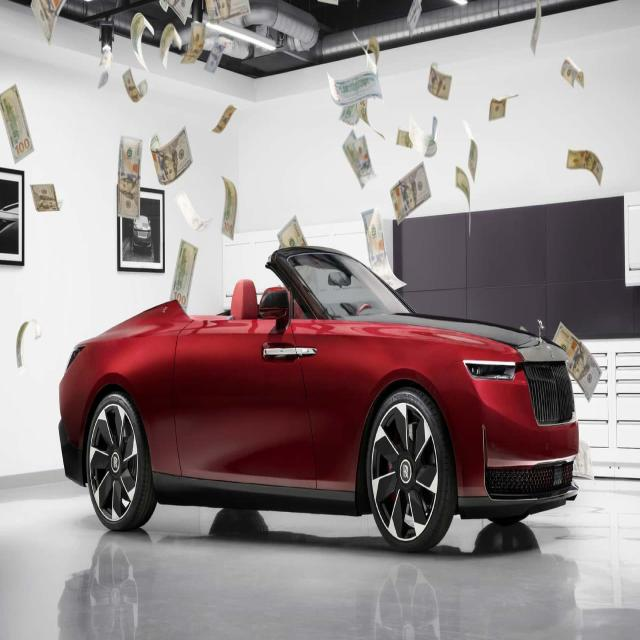cars17: (57, 240, 581, 551)
